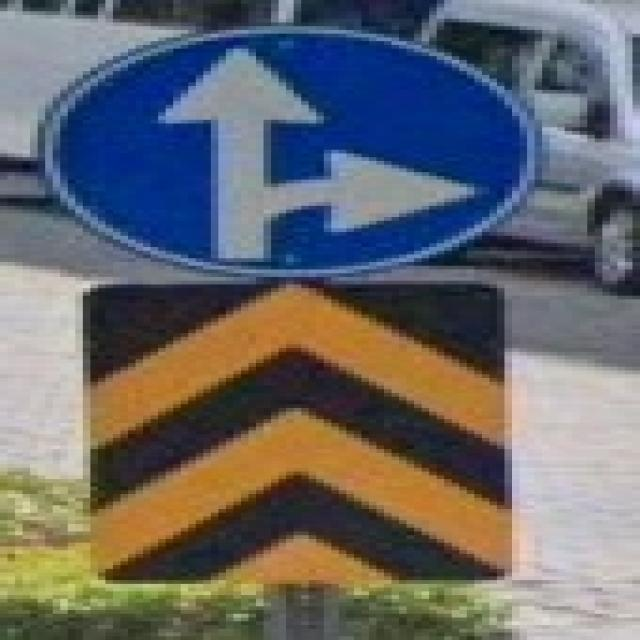Straight or Right: (43, 31, 525, 270)
